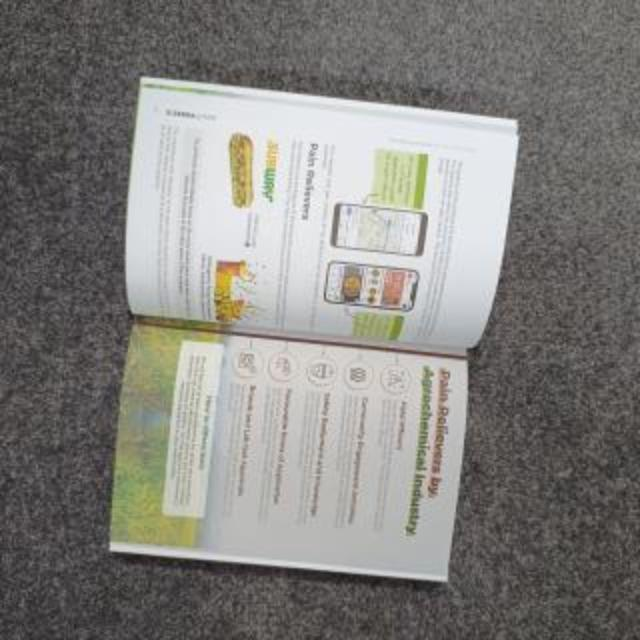book: (94, 66, 528, 612)
